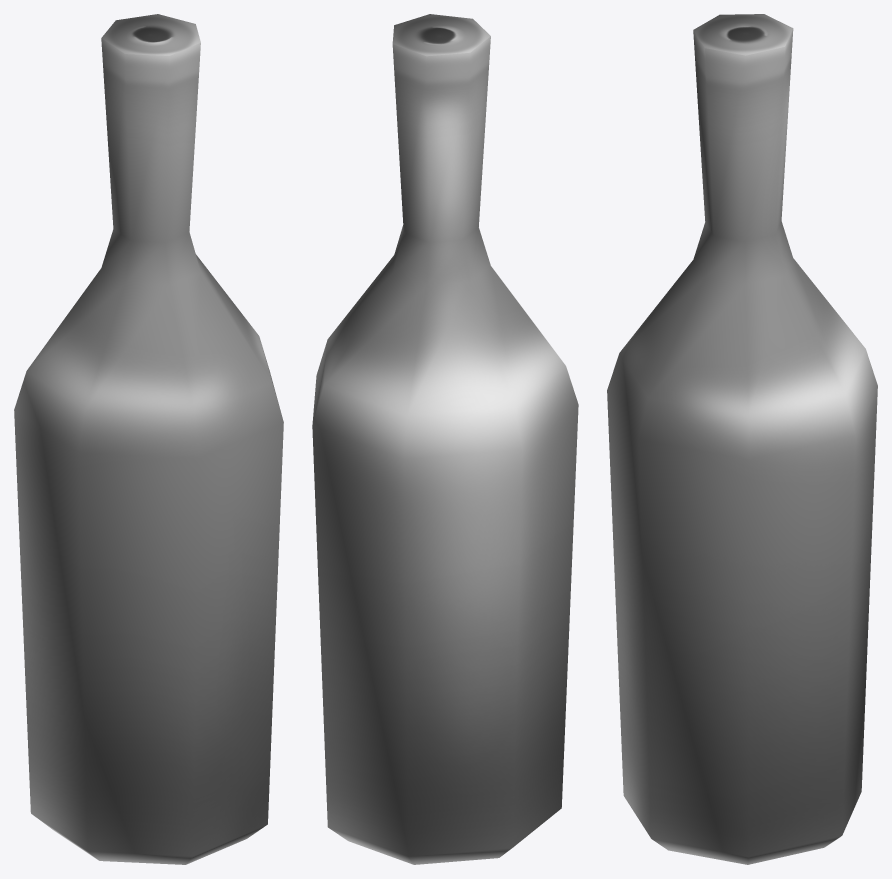
Rendered from BottleGlass.fbx.
3 views of the same model, side by side, from view 1: azimuth 30°, elevation 25°; view 2: azimuth 150°, elevation 25°; view 3: azimuth 270°, elevation 25° (orthographic).
Visible parts, largest first — view 1: BottleGlass; view 2: BottleGlass; view 3: BottleGlass.
Boxes of the visible parts, left/top/right/bottom form: BottleGlass: left=14, top=14, right=283, bottom=864; BottleGlass: left=312, top=14, right=578, bottom=864; BottleGlass: left=607, top=14, right=877, bottom=864.
Size of the model in its own units: 35.5 by 116 by 36.08.
